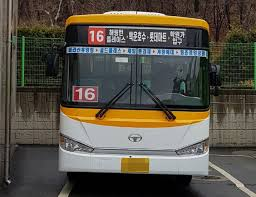bnum: (73, 86, 97, 101)
